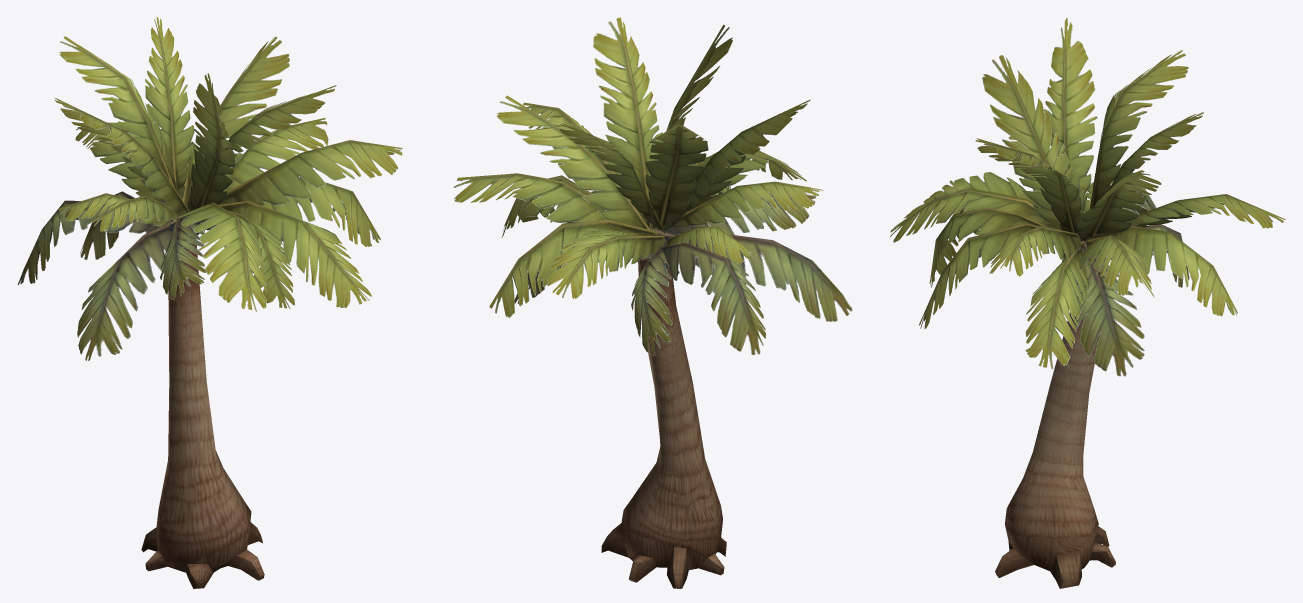
Rendered from Map_11_tree01.FBX.
3 renders of one model, left to right at view 1: azimuth 30°, elevation 25°; view 2: azimuth 150°, elevation 25°; view 3: azimuth 270°, elevation 25°, orthographic. The views are drawn at different scales.
Visible parts, largest first — view 1: Map_11_tree01b, Map_11_tree01a; view 2: Map_11_tree01b, Map_11_tree01a; view 3: Map_11_tree01b, Map_11_tree01a.
Boxes of the visible parts, x1,y1,x2,y2 form: Map_11_tree01b: (17, 17, 402, 361); Map_11_tree01a: (141, 237, 264, 588); Map_11_tree01b: (453, 17, 852, 356); Map_11_tree01a: (601, 257, 726, 588); Map_11_tree01b: (890, 18, 1285, 376); Map_11_tree01a: (995, 257, 1115, 588).
Bounding box in the file's own units: 542 × 598 × 824.
